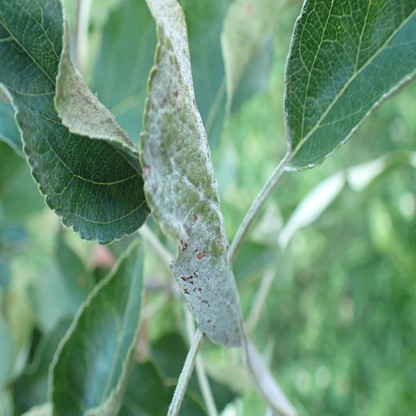powder: (143, 1, 246, 349), (285, 0, 416, 171), (1, 85, 108, 240), (55, 2, 137, 151)
